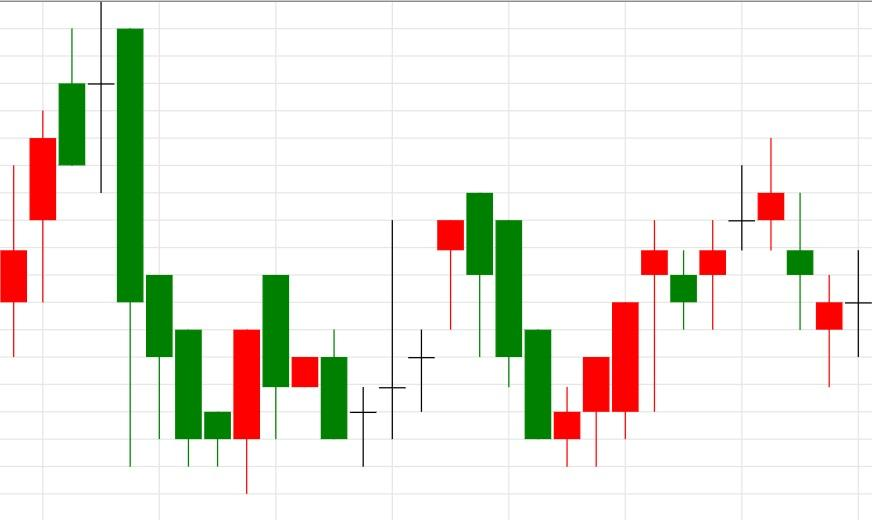hanging_man_fall: (349, 219, 466, 467)
